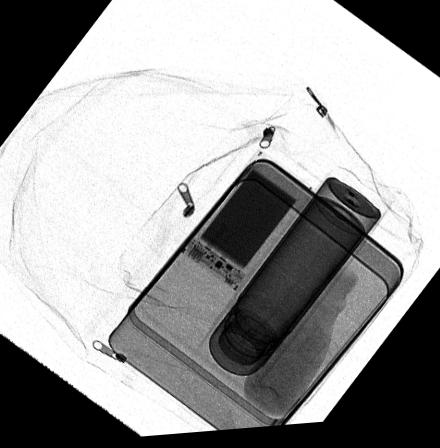Powerbank: (176, 151, 315, 297)
